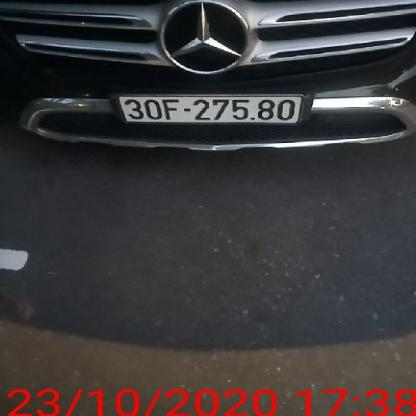biensoxe: (117, 92, 311, 132)
